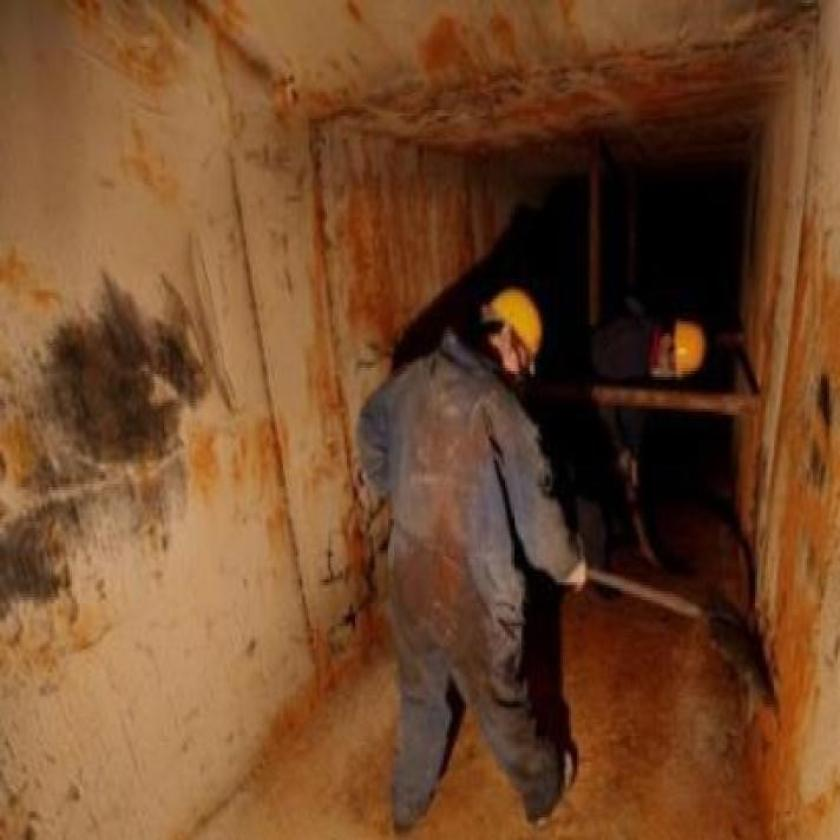Con_casco: (485, 285, 550, 391), (658, 317, 711, 387)
